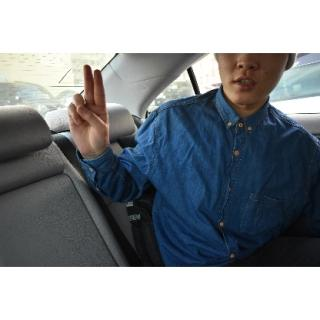TA: (65, 61, 113, 160)
